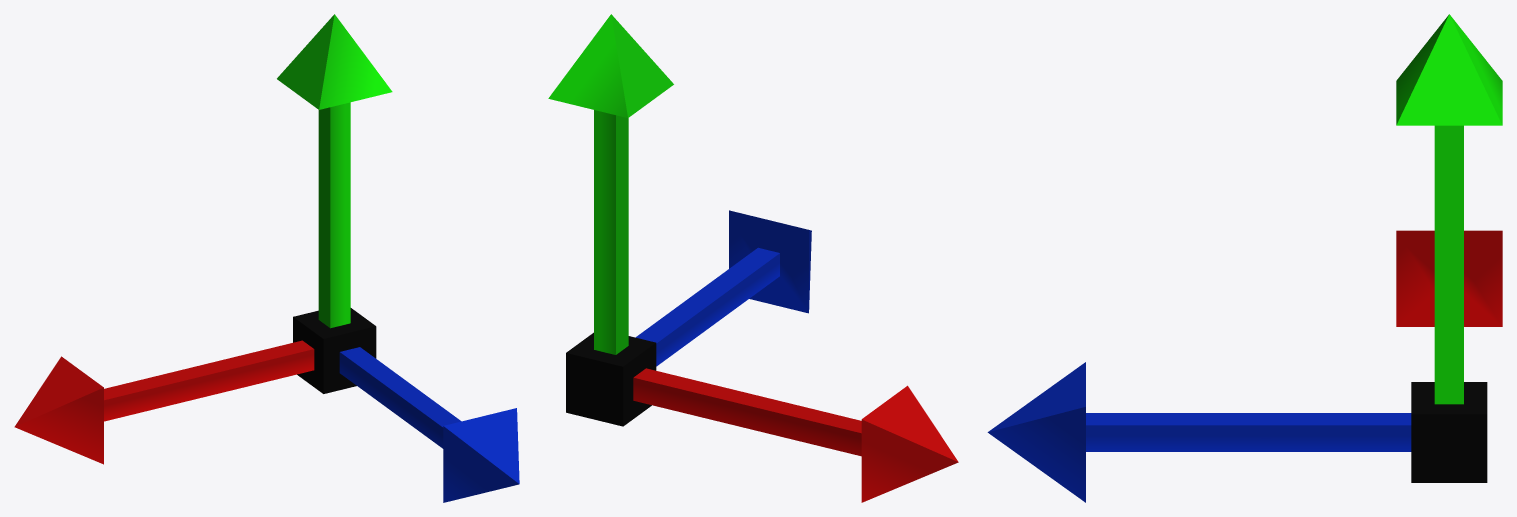
Rendered from Axis.fbx.
3 renders of one model, left to right at view 1: azimuth 30°, elevation 25°; view 2: azimuth 150°, elevation 25°; view 3: azimuth 270°, elevation 25°, orthographic. The views are drawn at different scales.
Parts seen in each view (by area): view 1: Y, X, Z, Center; view 2: Y, X, Z, Center; view 3: Z, Y, X, Center.
Boxes of the visible parts, x1,y1,x2,y2 form: Y: [277, 14, 392, 328]; X: [14, 340, 314, 464]; Z: [339, 347, 519, 502]; Center: [293, 308, 376, 393]; Y: [548, 14, 673, 354]; X: [633, 368, 958, 502]; Z: [635, 210, 811, 366]; Center: [566, 332, 656, 426]; Z: [987, 362, 1411, 502]; Y: [1396, 14, 1502, 404]; X: [1396, 230, 1502, 326]; Center: [1411, 382, 1487, 482].
Size of the model in its own units: 0.996 by 0.9953 by 0.996.
